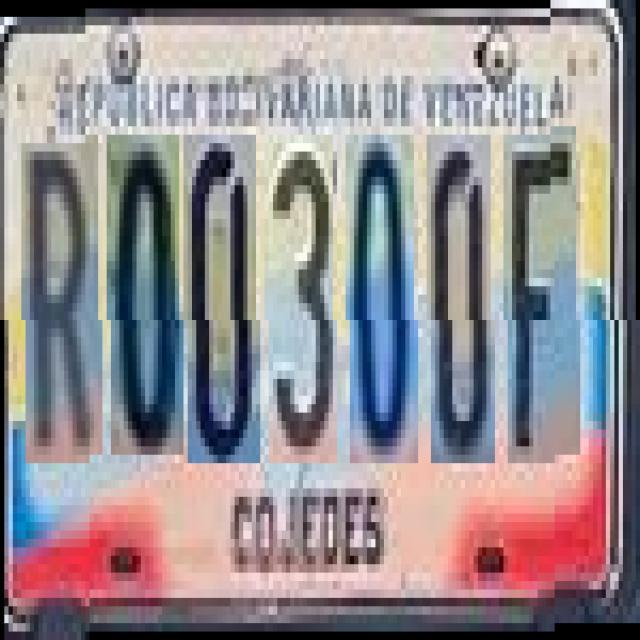0: (188, 134, 260, 463), (431, 134, 495, 463)
3: (268, 134, 338, 463)
F: (508, 134, 580, 463)
O: (110, 134, 183, 454), (350, 134, 418, 463)
R: (26, 134, 102, 454)
